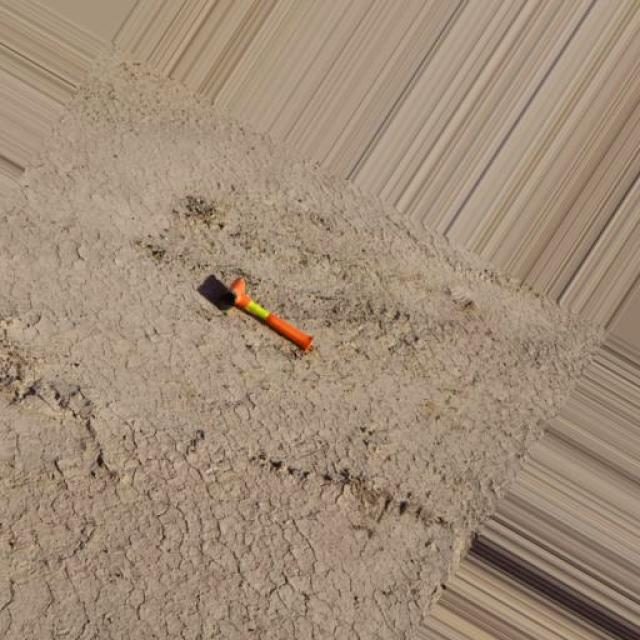mallet: (198, 272, 316, 354)
